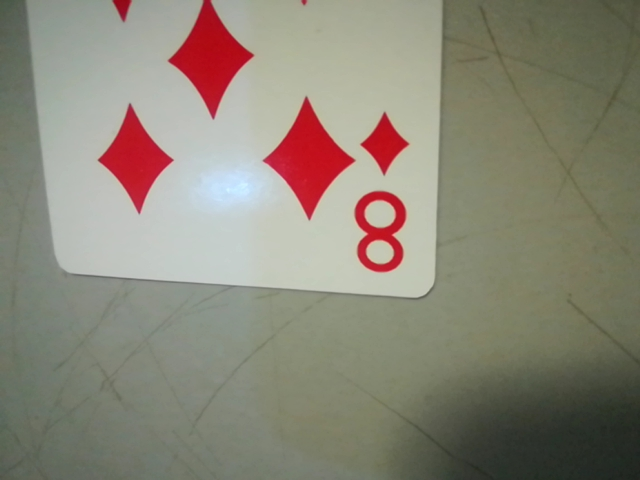fk 8: (341, 102, 423, 285)
